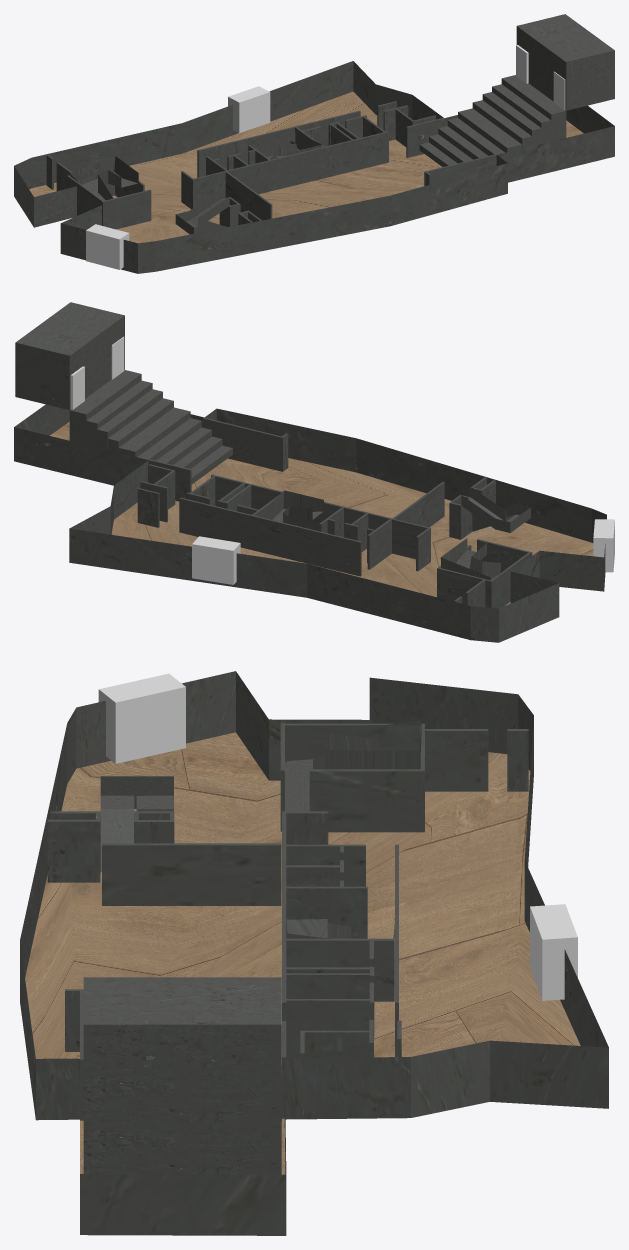
File: gallery-1f-transformed.glb
3 renders of one model, top to bottom at view 1: azimuth 30°, elevation 25°; view 2: azimuth 150°, elevation 25°; view 3: azimuth 270°, elevation 25°, orthographic. The views are drawn at different scales.
Visible parts, largest first — view 1: FLOOR, wall.004, room, wall.003, door_left.001, Stairs_Emergency.001, wall.015, Door(must closed), Door(must closed).001, wall.045, stair_cen, wall.017 (+17 smaller); view 2: FLOOR, wall.003, room, wall.004, wall.031, door_left.001, Door(must closed), wall.045, stair_cen, Stairs_Emergency.001, wall.041, wall.017 (+20 smaller); view 3: FLOOR, room, wall.017, wall.045, wall.014, Door(must closed).001, Stairs_Emergency.001, wall.011, wall.008, stair_cen, Door(must closed), wall.021 (+14 smaller).
Boxes of the visible parts, box(x1,y1,x2,y2) form: FLOOR: box(14, 61, 614, 273); wall.004: box(192, 131, 388, 208); room: box(517, 14, 614, 110); wall.003: box(197, 110, 360, 177); door_left.001: box(516, 26, 566, 110); Stairs_Emergency.001: box(69, 156, 138, 200); wall.015: box(101, 189, 151, 229); Door(must closed): box(228, 86, 270, 132); Door(must closed).001: box(86, 224, 129, 269); wall.045: box(501, 75, 566, 141); stair_cen: box(175, 190, 228, 234); wall.017: box(225, 171, 272, 220); FLOOR: box(14, 404, 606, 642); wall.003: box(179, 497, 361, 576); room: box(15, 302, 124, 409); wall.004: box(211, 474, 430, 561); wall.031: box(202, 417, 283, 471); door_left.001: box(69, 316, 124, 409); Door(must closed): box(192, 536, 240, 584); wall.045: box(69, 370, 141, 444); stair_cen: box(461, 487, 530, 532); Stairs_Emergency.001: box(440, 538, 501, 580); wall.041: box(119, 407, 190, 456); wall.017: box(393, 482, 444, 527); FLOOR: box(20, 671, 608, 1235); room: box(83, 977, 281, 1122); wall.017: box(102, 843, 281, 905); wall.045: box(83, 1122, 281, 1174); wall.014: box(309, 769, 423, 832); Door(must closed).001: box(98, 673, 185, 763); Stairs_Emergency.001: box(285, 719, 421, 811); wall.011: box(422, 729, 488, 791); wall.008: box(286, 938, 394, 1001); stair_cen: box(100, 776, 173, 871); Door(must closed): box(530, 904, 577, 1000); wall.021: box(47, 819, 100, 882).
Bounding box in the file's own units: 111 × 22.7 × 54.77.
2 materials, 2 textured.
